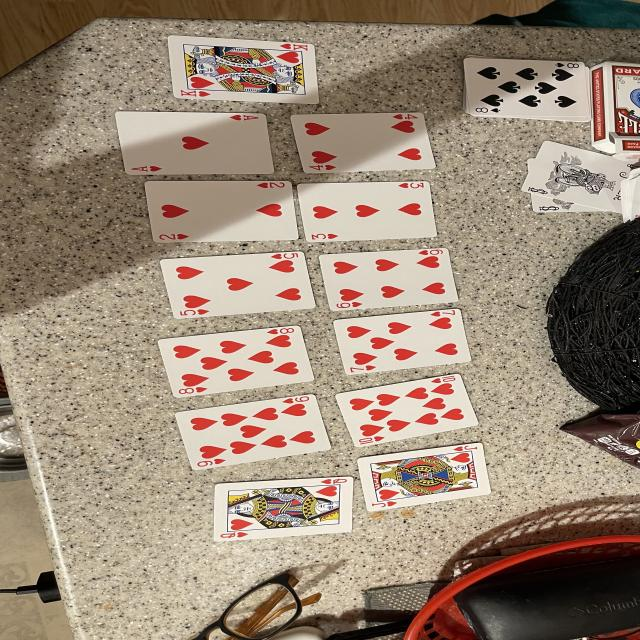10 of hearts: (336, 374, 478, 446)
2 of hearts: (144, 181, 298, 242)
3 of hearts: (298, 181, 438, 242)
4 of hearts: (291, 112, 436, 174)
5 of hearts: (160, 251, 316, 319)
6 of hearts: (320, 249, 458, 310)
7 of hearts: (333, 309, 471, 375)
8 of hearts: (158, 326, 313, 398)
8 of spades: (462, 56, 589, 122)
9 of hearts: (176, 394, 331, 470)
Ace of hearts: (116, 111, 273, 175)
Jack of hearts: (358, 442, 491, 511)
Joker: (522, 141, 631, 212), (531, 195, 607, 212), (527, 159, 533, 168)
King of hearts: (169, 35, 320, 104)
Queen of hearts: (213, 476, 353, 541)
